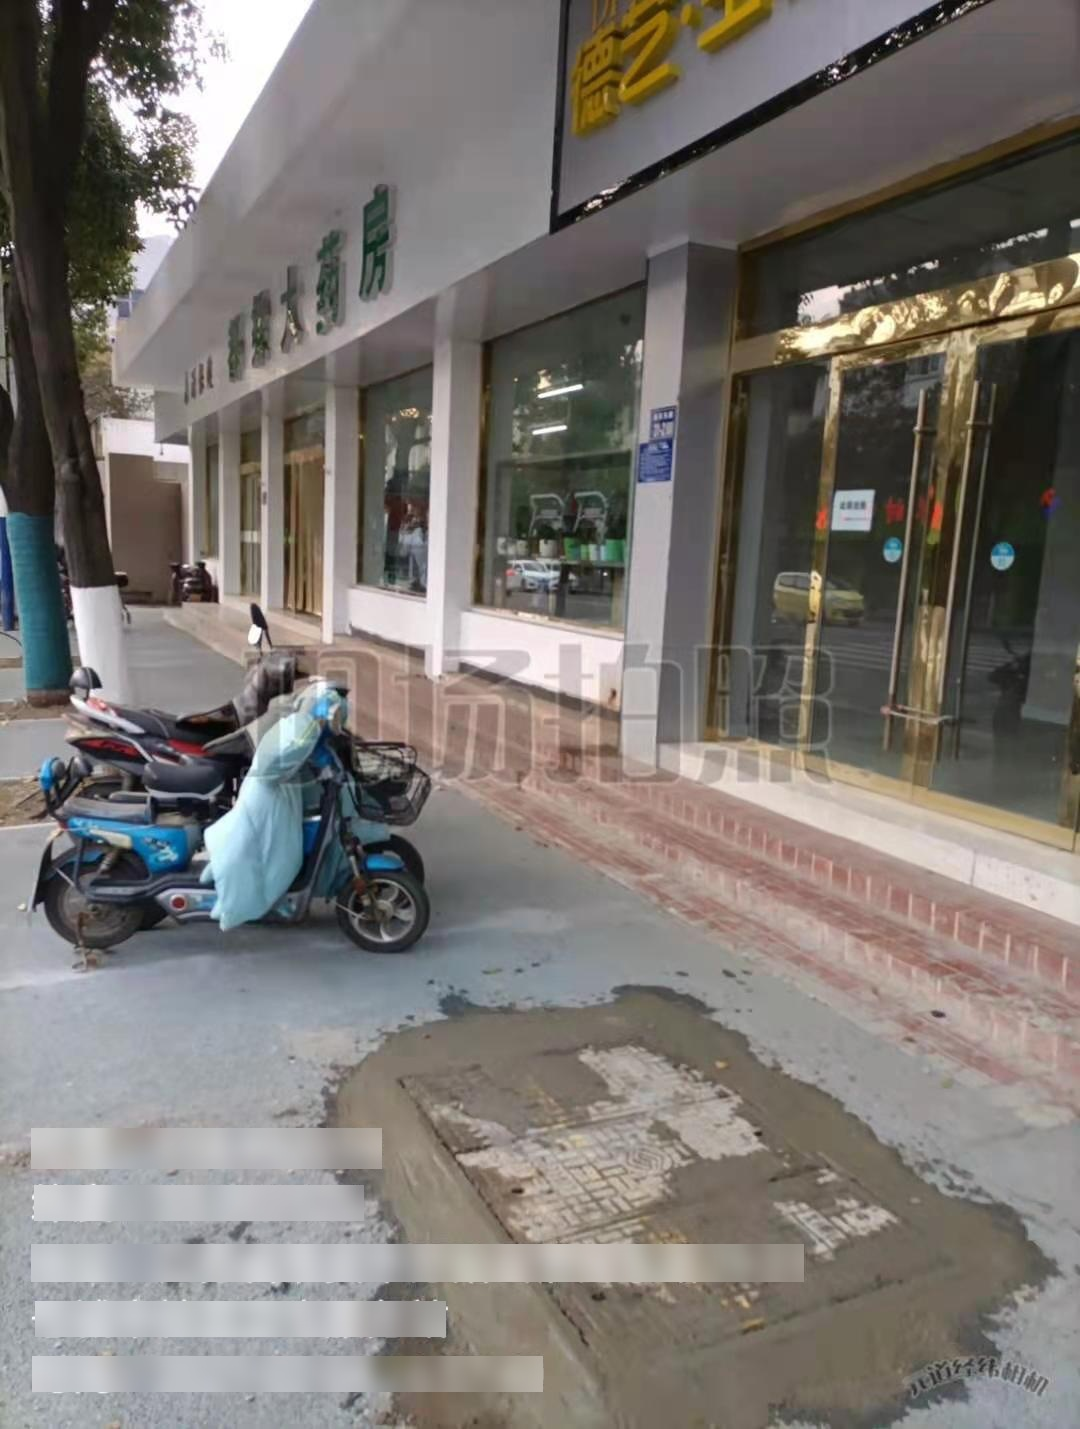good: (380, 1058, 981, 1344)
